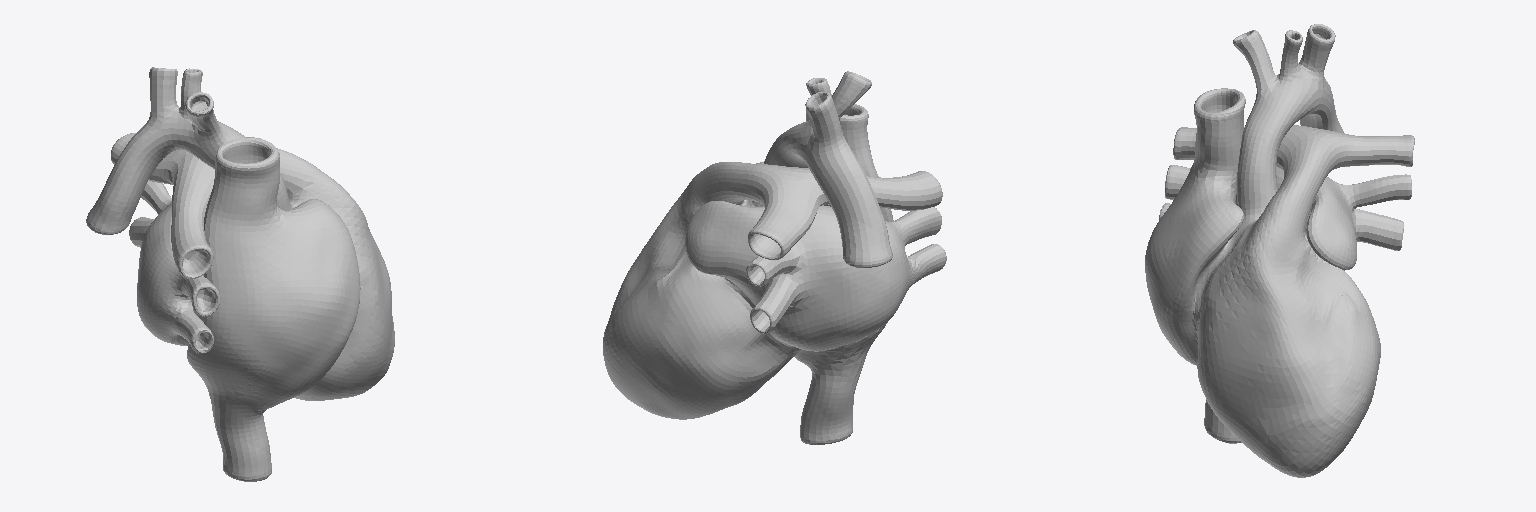
The picture shows the model from 3 angles: view 1: azimuth 30°, elevation 25°; view 2: azimuth 150°, elevation 25°; view 3: azimuth 270°, elevation 25°; orthographic projection.
Parts seen in each view (by area): view 1: HEART_PRO; view 2: HEART_PRO; view 3: HEART_PRO.
Boxes of the visible parts, box(x1,y1,x2,y2) form: HEART_PRO: box(86, 67, 394, 481); HEART_PRO: box(603, 71, 946, 444); HEART_PRO: box(1145, 24, 1414, 477).
Size of the model in its own units: 638 by 826 by 518.